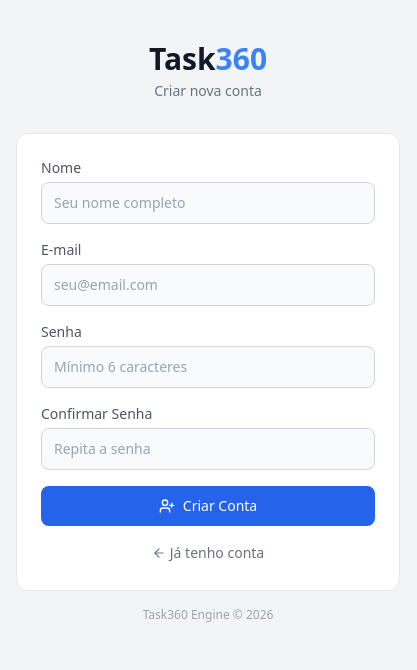
Test: RegisterPage › should show error when passwords do not match
Step 1. Type "João Silva" into the field with placeholder "Seu nome completo" → (208, 203), box [41,182,375,224]
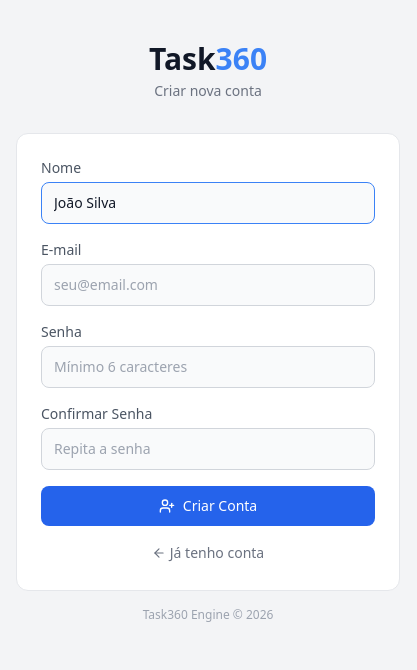
Step 2. Type "joao@test.com" into the field with placeholder "seu@email.com" → (208, 285), box [41,264,375,306]
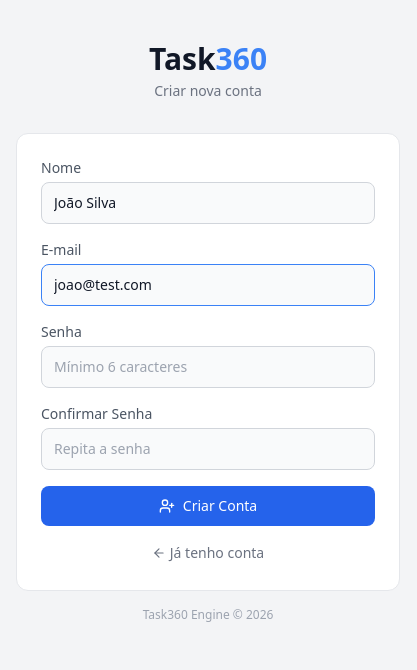
Step 3. Type "password123" into the password field with placeholder "Mínimo 6 caracteres" → (208, 367), box [41,346,375,388]
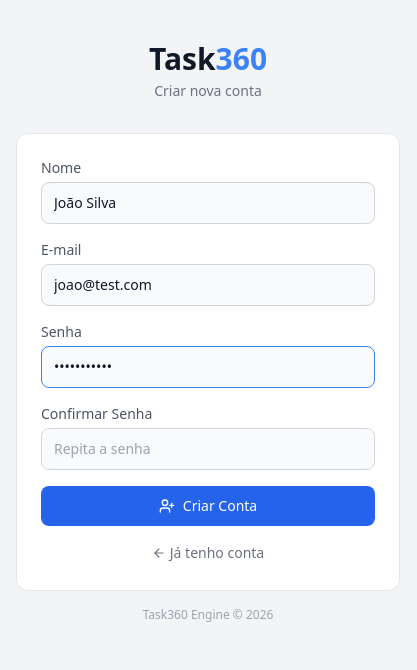
Step 4. Type "differentpassword" into the password field with placeholder "Repita a senha" → (208, 449), box [41,428,375,470]
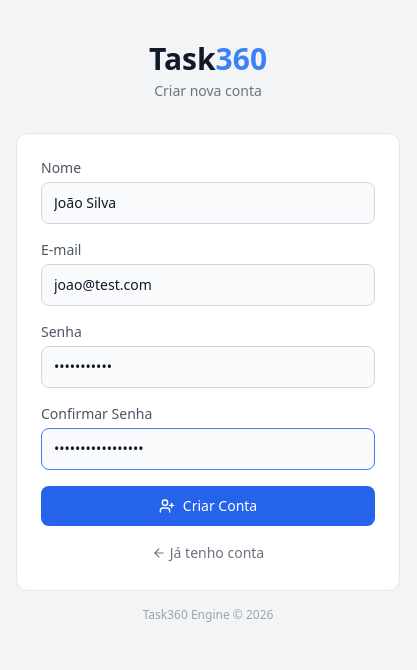
Step 5. Click the button "Criar Conta" → (208, 506), box [41,486,375,526]
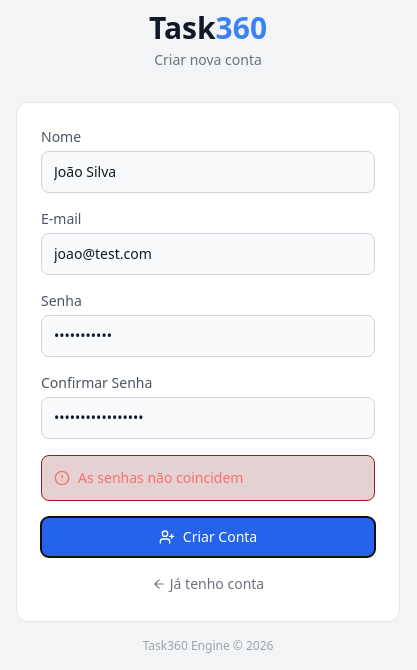
expect the text "As senhas não coincidem" is shown: met, box [41,455,375,501]
